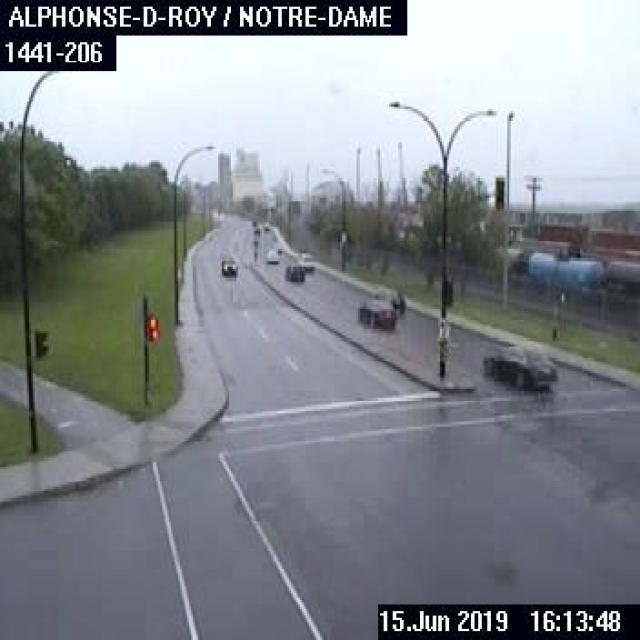vehicle: (480, 342, 555, 389), (356, 296, 395, 326), (371, 283, 406, 314), (282, 261, 304, 280), (298, 249, 315, 272), (220, 256, 236, 276), (265, 248, 279, 262), (262, 222, 269, 231)
